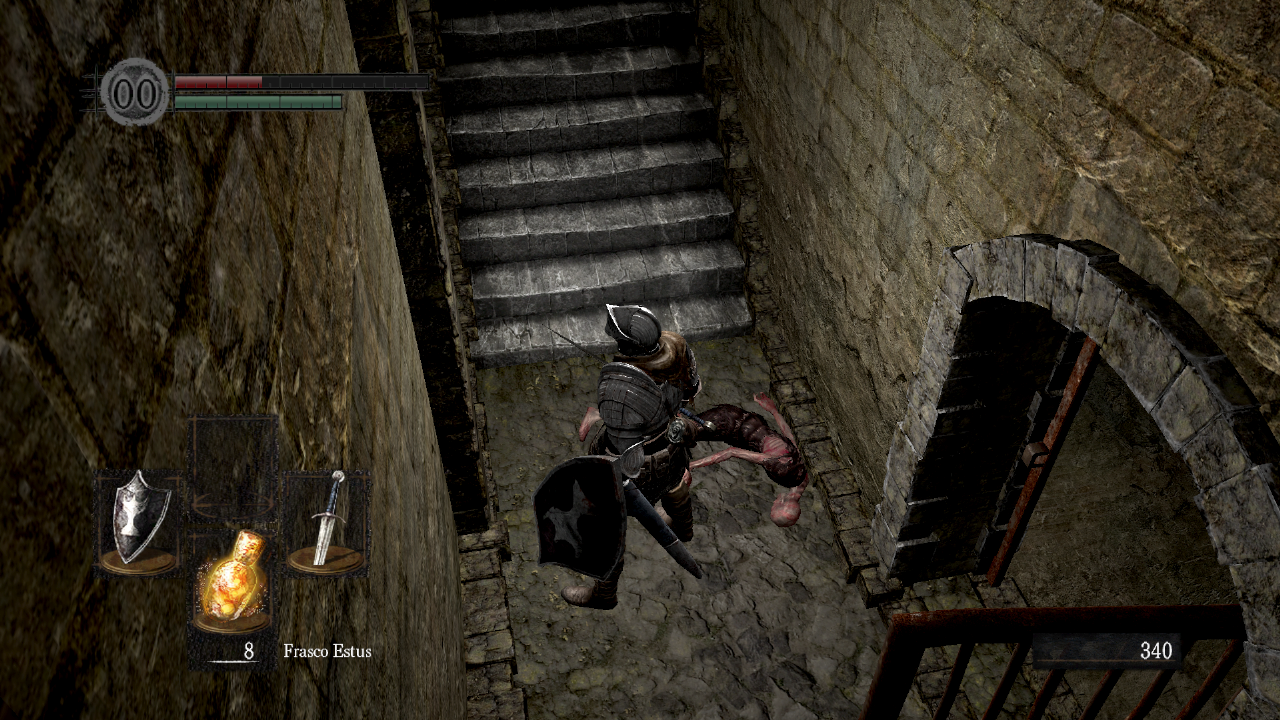hollow: (578, 391, 810, 527)
player: (532, 303, 719, 610)
